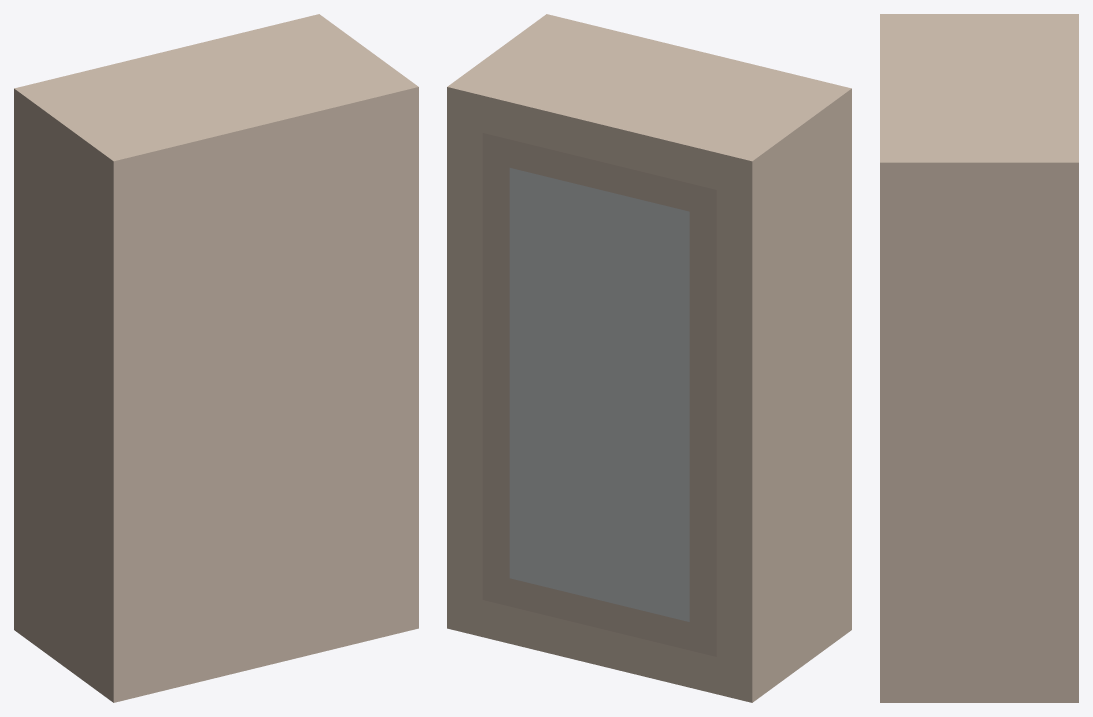
Rendered from furn_bathroomCabinet.glb.
The picture shows the model from 3 angles, left to right: view 1: azimuth 30°, elevation 25°; view 2: azimuth 150°, elevation 25°; view 3: azimuth 270°, elevation 25°; orthographic projection.
Size of the model in its own units: 0.46 by 0.78 by 0.26.
